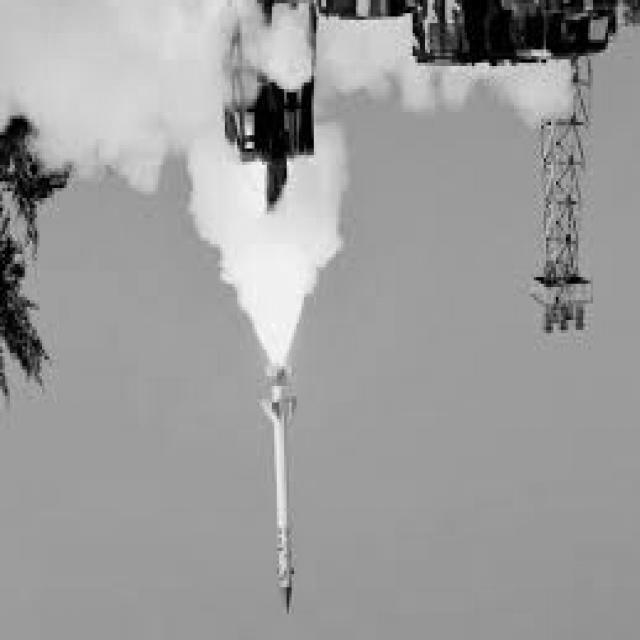missile: (258, 355, 305, 626)
